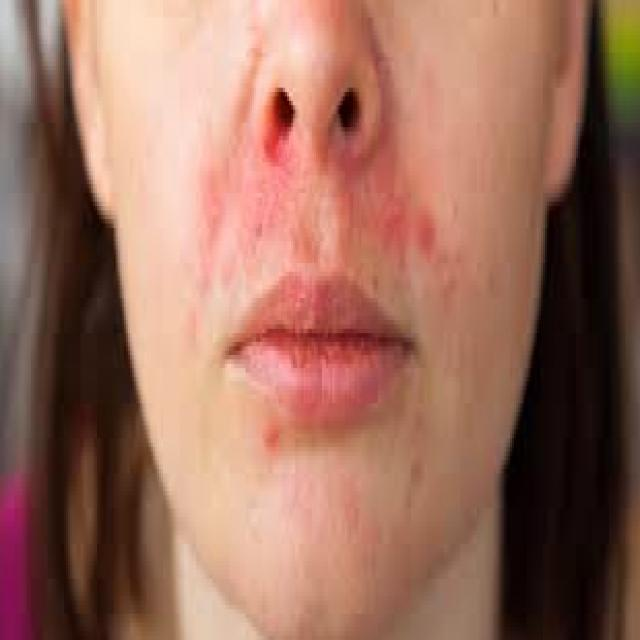Eczema: (189, 148, 447, 288)
